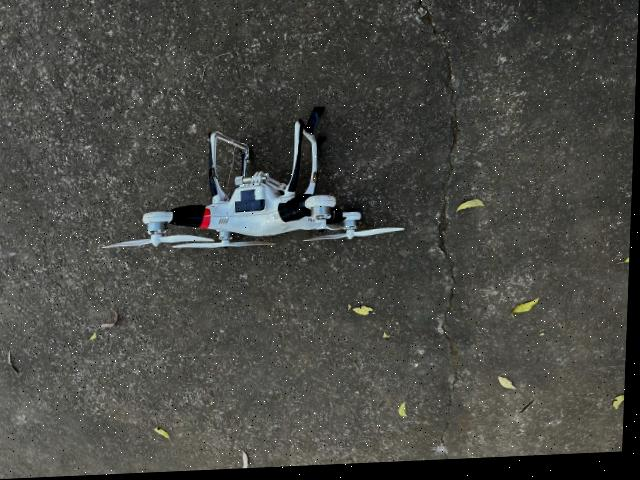drone: (87, 95, 420, 277)
